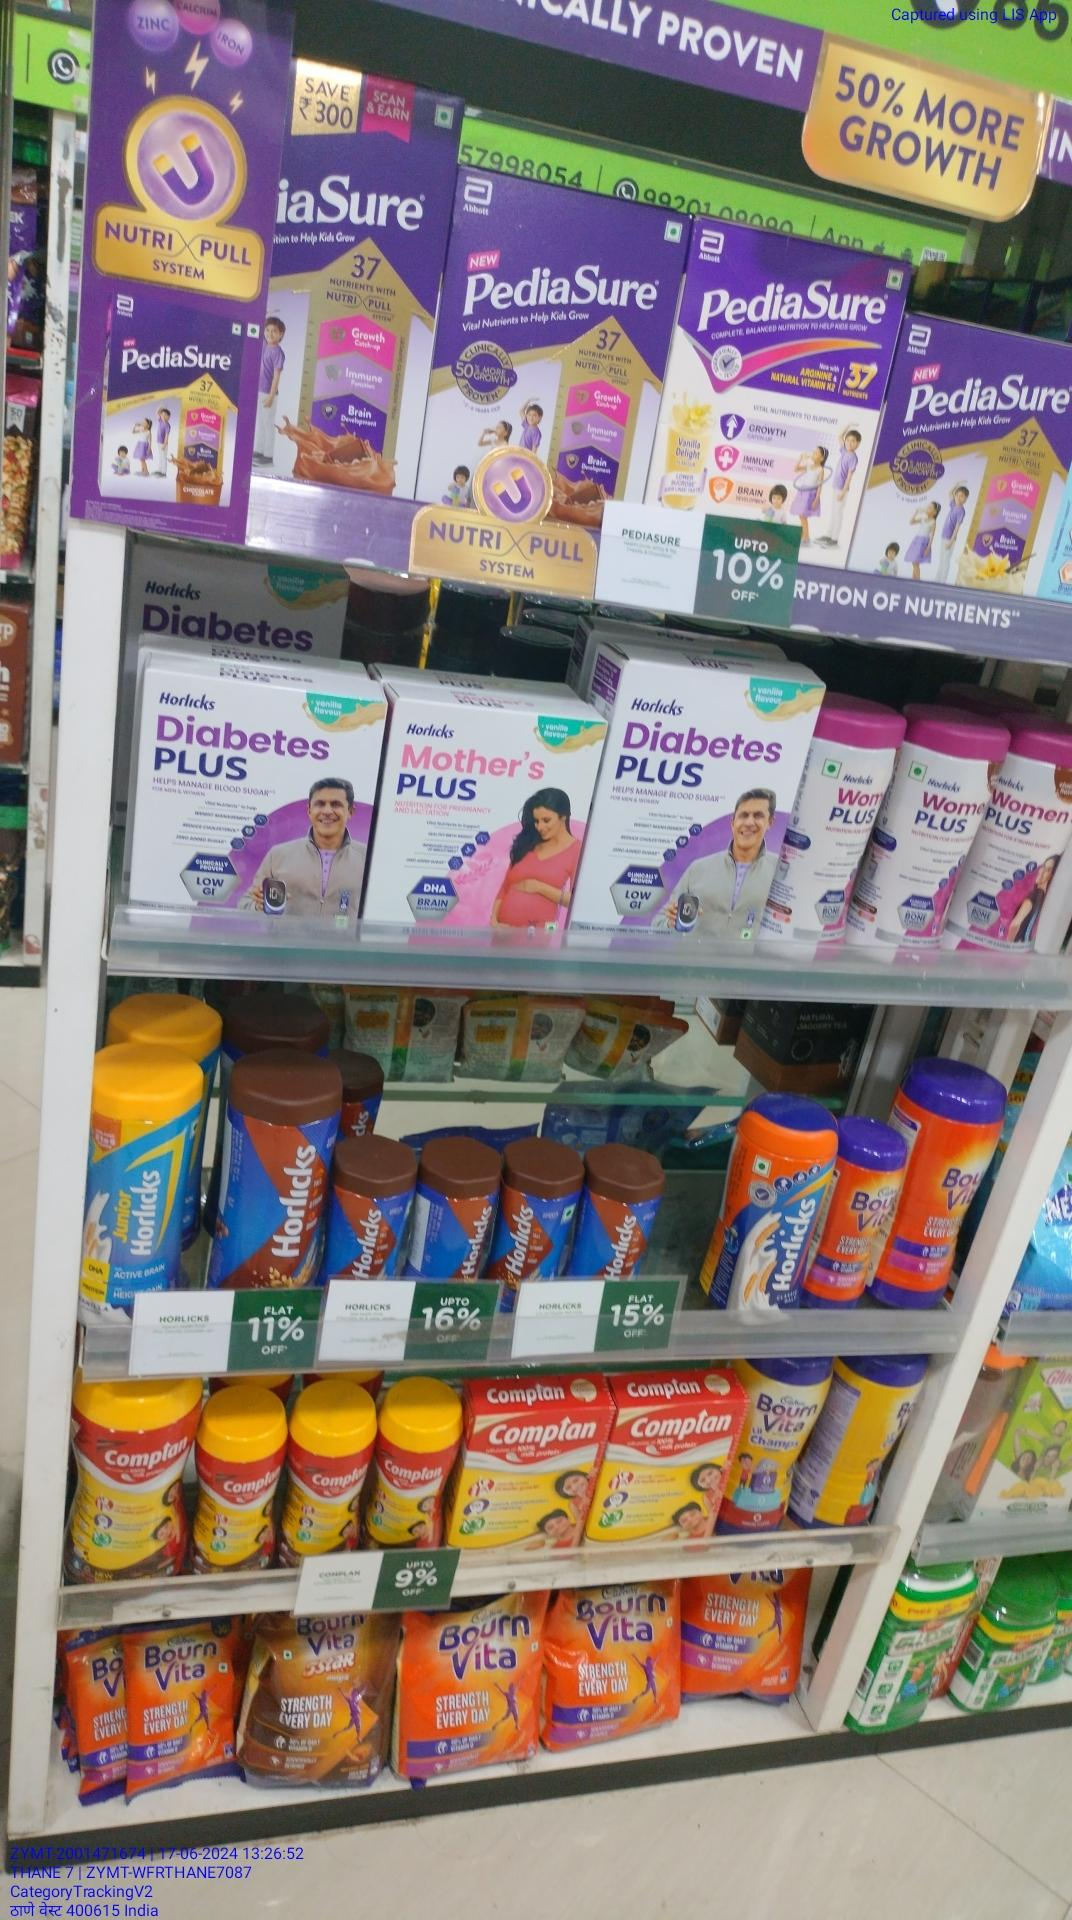BOURN_VITA_75_G_POUCH: (124, 1622, 237, 1778)
BOURN_VITA_CHAMPS_500_G_JAR: (730, 1358, 825, 1532)
COMPLAN_CHOCOLATE_200_GMS_JAR: (193, 1385, 281, 1573), (377, 1375, 456, 1549), (289, 1379, 368, 1548)
HORLICKS_JUNIOR_VANILLA_500_GM_JAR: (87, 1042, 198, 1295)
HORLICK_CHOCOLATE_200_G_JAR: (421, 1134, 497, 1282), (334, 1147, 417, 1279), (504, 1139, 581, 1279), (587, 1137, 661, 1274)
